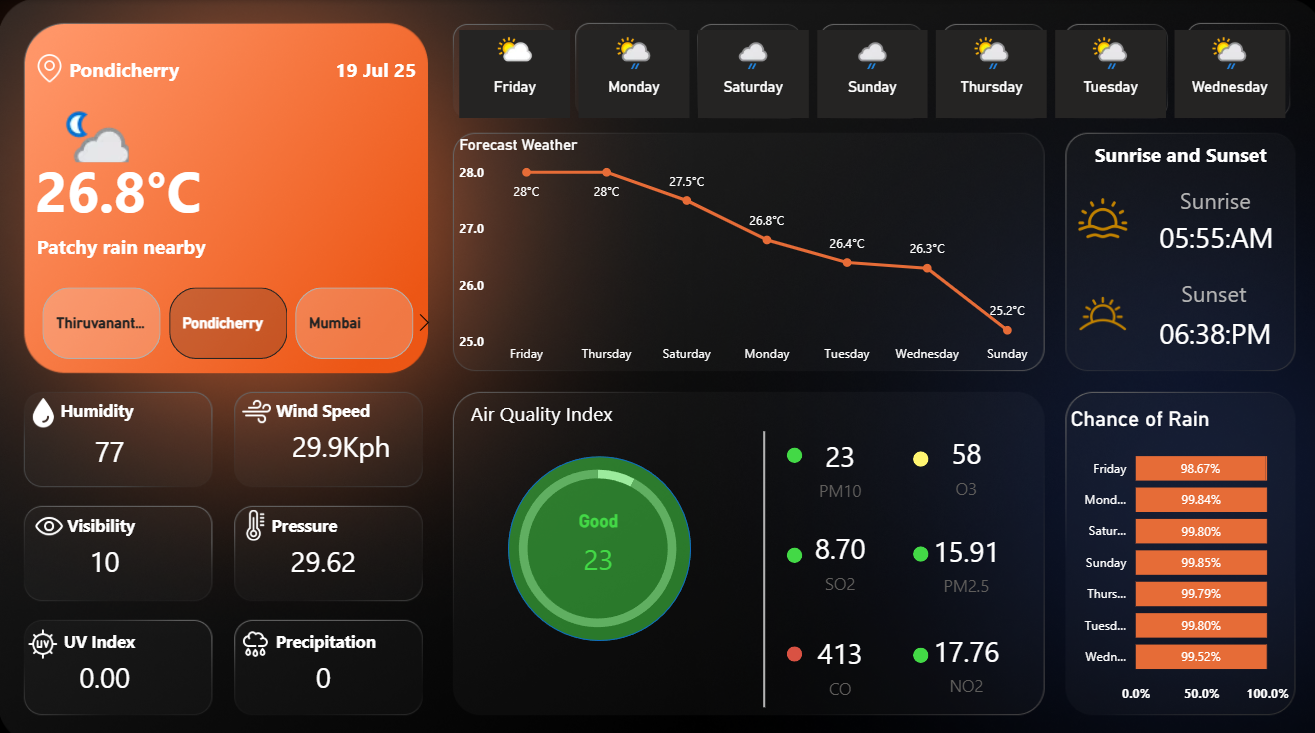

The dashboard page shown, as its layout file describes it:
{"tool":"powerbi","page":{"name":"Weather_Dashboard","canvas":[1280,720],"ordinal":0},"visuals":[{"type":"donutChart","fields":{"Y":["Sum(Current.current.air_quality.pm10)","_Measure.Left_value_PM10"]},"box":[468.3,430,221.7,200],"z":0},{"type":"shape","box":[491.7,440,176.7,178.3],"z":1000},{"type":"advancedSlicerVisual","fields":{"Values":["Locations.location.name"]},"box":[17.9,273.1,408.1,79.7],"z":2000},{"type":"shape","box":[35.8,126.8,190.2,110.6],"z":3000},{"type":"shape","box":[37,217.2,188.1,41.3],"z":4000},{"type":"shape","box":[68.3,45.5,188.6,40.6],"z":5000},{"type":"shape","box":[250.4,45.5,152.8,40.6],"z":6000},{"type":"image","box":[30.9,45.5,37.4,40.6],"z":7000},{"type":"cardVisual","fields":{"Data":["Min(Current.current.condition.icon)"]},"box":[35.8,86.2,95.9,76.4],"z":8000},{"type":"image","box":[24.4,487.7,50.4,40.6],"z":9000},{"type":"image","box":[222.7,601.5,50.4,39],"z":10000},{"type":"image","box":[17.9,601.5,50.4,39],"z":11000},{"type":"image","box":[224.4,377.2,50.4,39],"z":12000},{"type":"image","box":[19.5,378.8,48.8,39],"z":13000},{"type":"image","box":[222.7,487.7,50.4,39],"z":14000},{"type":"textbox","box":[43.9,380.4,104,37.4],"z":15000},{"type":"textbox","box":[248.7,380.4,115.4,37.4],"z":16000},{"type":"textbox","box":[50.4,491,97.5,37.4],"z":17000},{"type":"textbox","box":[250.4,491,89.4,37.4],"z":18000},{"type":"textbox","box":[48.8,603.2,99.2,37.4],"z":19000},{"type":"textbox","box":[263.4,603.2,123.6,37.4],"z":20000},{"type":"card","fields":{"Values":["Sum(Current.current.humidity)"]},"box":[68.3,400,78.3,71.7],"z":21000},{"type":"card","fields":{"Values":["_Measure.Wind_Speed"]},"box":[274.8,399.9,112.2,65],"z":22000},{"type":"card","fields":{"Values":["Sum(Current.current.pressure_in)"]},"box":[274.8,510.5,78,65],"z":23000},{"type":"card","fields":{"Values":["Sum(Current.current.vis_km)"]},"box":[63.4,510.5,78,65],"z":24000},{"type":"card","fields":{"Values":["Sum(Current.current.uv)"]},"box":[63.4,622.7,78,65],"z":25000},{"type":"card","fields":{"Values":["Sum(Current.current.precip_mm)"]},"box":[274.8,622.7,78,65],"z":26000},{"type":"advancedSlicerVisual","fields":{"Values":["Forecast_Day.Day_Name"]},"box":[440.6,24.4,811.3,95.9],"z":27000},{"type":"lineChart","title":"Forecast Weather","fields":{"Y":["Sum(Forecast_Day.forecast.forecastday.day.avgtemp_c)"],"Category":["Forecast_Day.Day_Name"]},"box":[440,131.7,570,228.3],"z":28000},{"type":"textbox","box":[1031.7,131.7,220,50],"z":29000},{"type":"shape","box":[1120.8,209.9,136.3,37.4],"z":30000},{"type":"shape","box":[1120.6,303.3,136.7,36.7],"z":31000},{"type":"textbox","box":[1120.6,173.3,108.3,53.3],"z":32000},{"type":"textbox","box":[1078.9,263.3,190,58.3],"z":33000},{"type":"image","box":[1031.7,268.3,70,70],"z":34000},{"type":"image","box":[1031.7,181.7,70,56.7],"z":35000},{"type":"textbox","box":[451.7,381.7,220,50],"z":36000},{"type":"card","fields":{"Values":["Sum(Current.current.air_quality.pm10)"]},"box":[761.7,416.7,103.3,71.7],"z":37000},{"type":"card","fields":{"Values":["Sum(Current.current.air_quality.pm2_5)"]},"box":[883.3,505,103.3,76.7],"z":38000},{"type":"card","fields":{"Values":["Sum(Current.current.air_quality.no2)"]},"box":[883.3,601.7,103.3,76.7],"z":39000},{"type":"card","fields":{"Values":["Sum(Current.current.air_quality.o3)"]},"box":[883.3,411.7,103.3,76.7],"z":40000},{"type":"card","fields":{"Values":["Sum(Current.current.air_quality.so2)"]},"box":[761.1,505,103.3,71.7],"z":41000},{"type":"card","fields":{"Values":["Sum(Current.current.air_quality.co)"]},"box":[761.1,606.7,103.3,71.7],"z":42000},{"type":"shape","box":[761.1,431.7,15,15],"z":43000},{"type":"shape","box":[761.1,623.3,15,15],"z":44000},{"type":"shape","box":[761.1,528.3,15,15],"z":45000},{"type":"shape","box":[883.3,435,15,15],"z":46000},{"type":"shape","box":[883.3,526.7,15,15],"z":47000},{"type":"shape","box":[883.3,625,15,15],"z":48000},{"type":"shape","box":[718.3,416.7,43.3,266.7],"z":49000},{"type":"card","fields":{"Values":["Sum(Current.current.air_quality.pm10)"]},"box":[518.3,491.7,121.7,78.3],"z":50000},{"type":"hundredPercentStackedBarChart","title":"Chance of Rain","fields":{"Category":["Forecast_Day.Day_Name"],"Y":["Sum(Forecast_Hour.forecast.forecastday.hour.chance_of_rain)","_Measure.Left_value_Rain"]},"box":[1030.3,392.1,220.8,295.6],"z":51000}]}

Visuals, with their boxes in screenshot pixels (x1, y1, x2, y2), scaled from the page's 1280x720 canvas onto the 1315x733 screenshot:
donutChart - Sum(Current.current.air_quality.pm10) x _Measure.Left_value_PM10: [481,438,709,641]
shape: [505,448,687,629]
advancedSlicerVisual - Locations.location.name: [18,278,438,359]
shape: [37,129,232,242]
shape: [38,221,231,263]
shape: [70,46,264,88]
shape: [257,46,414,88]
image: [32,46,70,88]
cardVisual - Min(Current.current.condition.icon): [37,88,135,166]
image: [25,497,77,538]
image: [229,612,281,652]
image: [18,612,70,652]
image: [231,384,282,424]
image: [20,386,70,425]
image: [229,497,281,536]
textbox: [45,387,152,425]
textbox: [256,387,374,425]
textbox: [52,500,152,538]
textbox: [257,500,349,538]
textbox: [50,614,152,652]
textbox: [271,614,398,652]
card - Sum(Current.current.humidity): [70,407,151,480]
card - _Measure.Wind_Speed: [282,407,398,473]
card - Sum(Current.current.pressure_in): [282,520,362,586]
card - Sum(Current.current.vis_km): [65,520,145,586]
card - Sum(Current.current.uv): [65,634,145,700]
card - Sum(Current.current.precip_mm): [282,634,362,700]
advancedSlicerVisual - Forecast_Day.Day_Name: [453,25,1286,122]
"Forecast Weather" lineChart: [452,134,1038,366]
textbox: [1060,134,1286,185]
shape: [1151,214,1291,252]
shape: [1151,309,1292,346]
textbox: [1151,176,1263,231]
textbox: [1108,268,1304,327]
image: [1060,273,1132,344]
image: [1060,185,1132,243]
textbox: [464,389,690,439]
card - Sum(Current.current.air_quality.pm10): [783,424,889,497]
card - Sum(Current.current.air_quality.pm2_5): [907,514,1014,592]
card - Sum(Current.current.air_quality.no2): [907,613,1014,691]
card - Sum(Current.current.air_quality.o3): [907,419,1014,497]
card - Sum(Current.current.air_quality.so2): [782,514,888,587]
card - Sum(Current.current.air_quality.co): [782,618,888,691]
shape: [782,439,797,455]
shape: [782,635,797,650]
shape: [782,538,797,553]
shape: [907,443,923,458]
shape: [907,536,923,551]
shape: [907,636,923,652]
shape: [738,424,782,696]
card - Sum(Current.current.air_quality.pm10): [532,501,658,580]
"Chance of Rain" hundredPercentStackedBarChart: [1058,399,1285,700]
